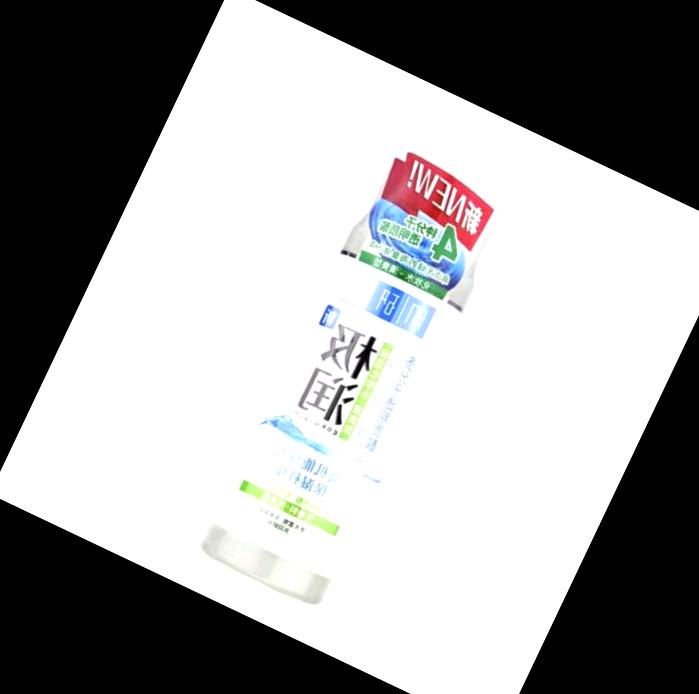cosmetic: (204, 123, 525, 603)
